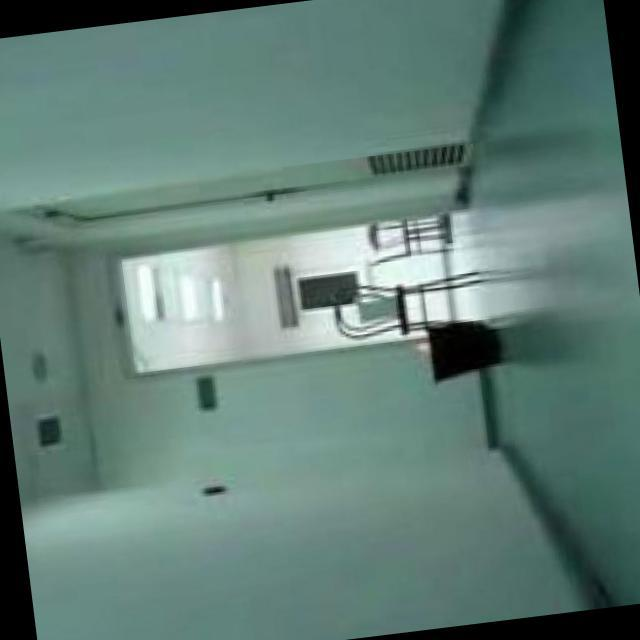Fire: (407, 333, 434, 360)
